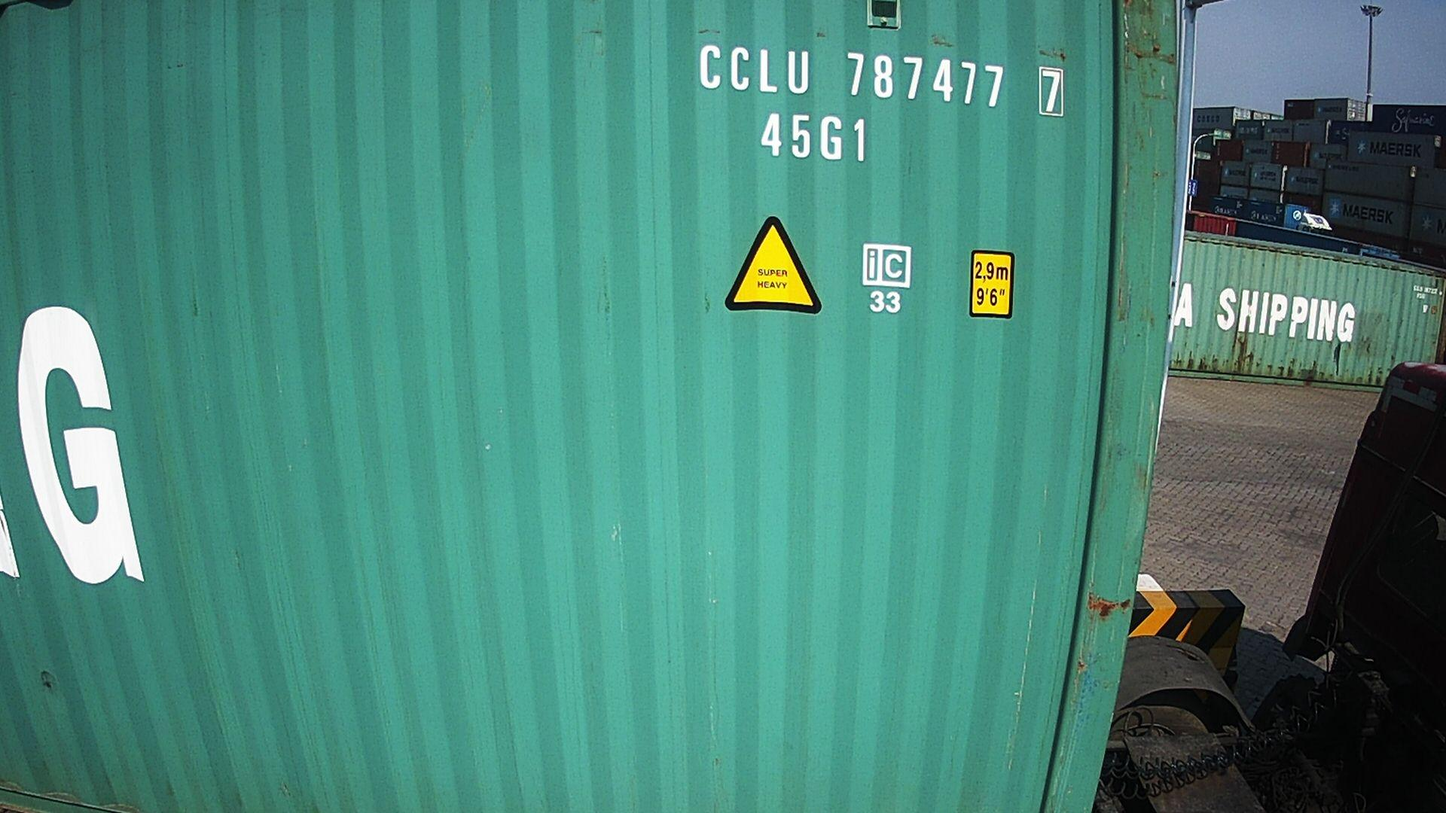container-numbers: (691, 39, 1068, 117), (757, 111, 872, 166)
